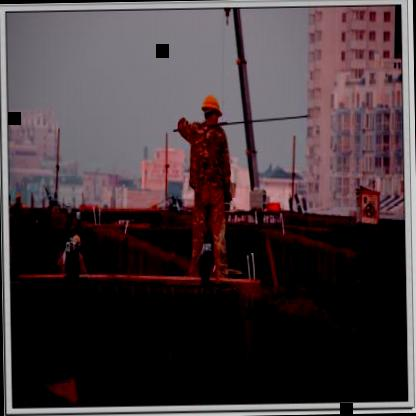helmet: (198, 93, 226, 126)
